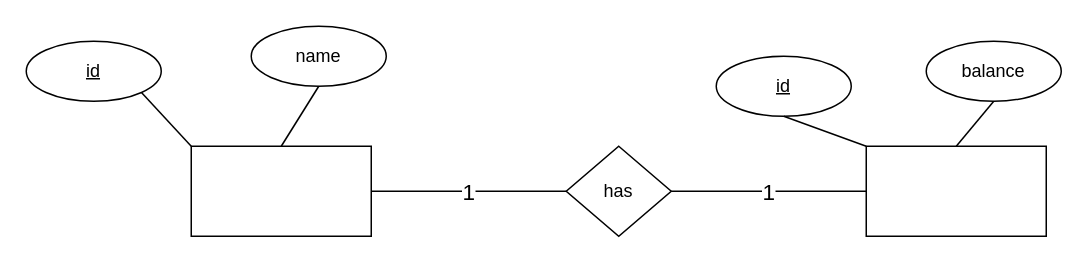
Image size: 1088x263. Some labels were removed from this diagram. Each missing label, with the box of its shape:
Account: (865, 145, 1046, 236)
Customer: (190, 145, 371, 236)
